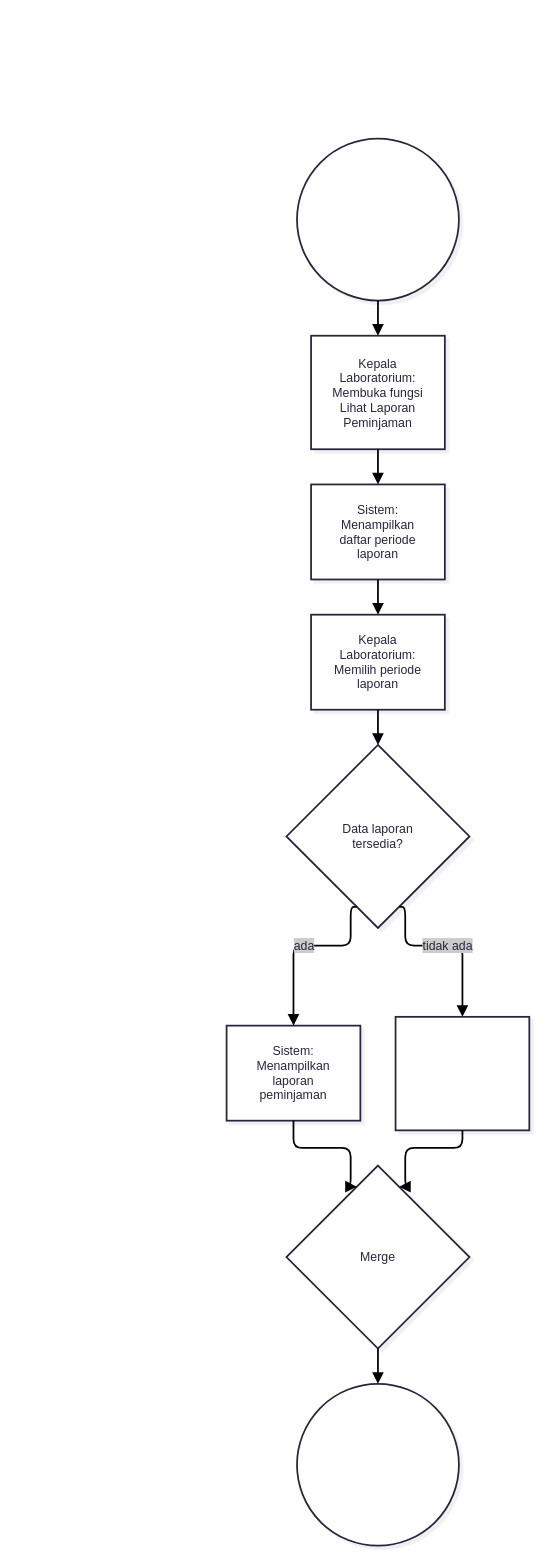
Image size: 548x1565. Some labels were removed from this diagram. Here are the shapes that lost their labels. From the top down, the centre of each, then its label:
[379,220]: Mulai
[463,1075]: Sistem: Menampilkan pesan data laporan tidak tersedia
[379,1466]: Selesai
